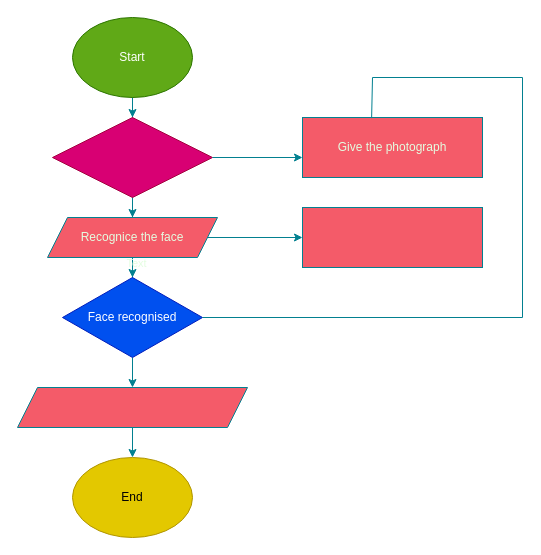
Some shapes in this 541 by 555 pixel diagram are drawn without their labels. Each missing label, with the centre of its shape:
Neww user: [132,157]
Store the face data in folder on your name: [392,237]
Stored in csv file with registration number&date,time or entry: [132,407]
